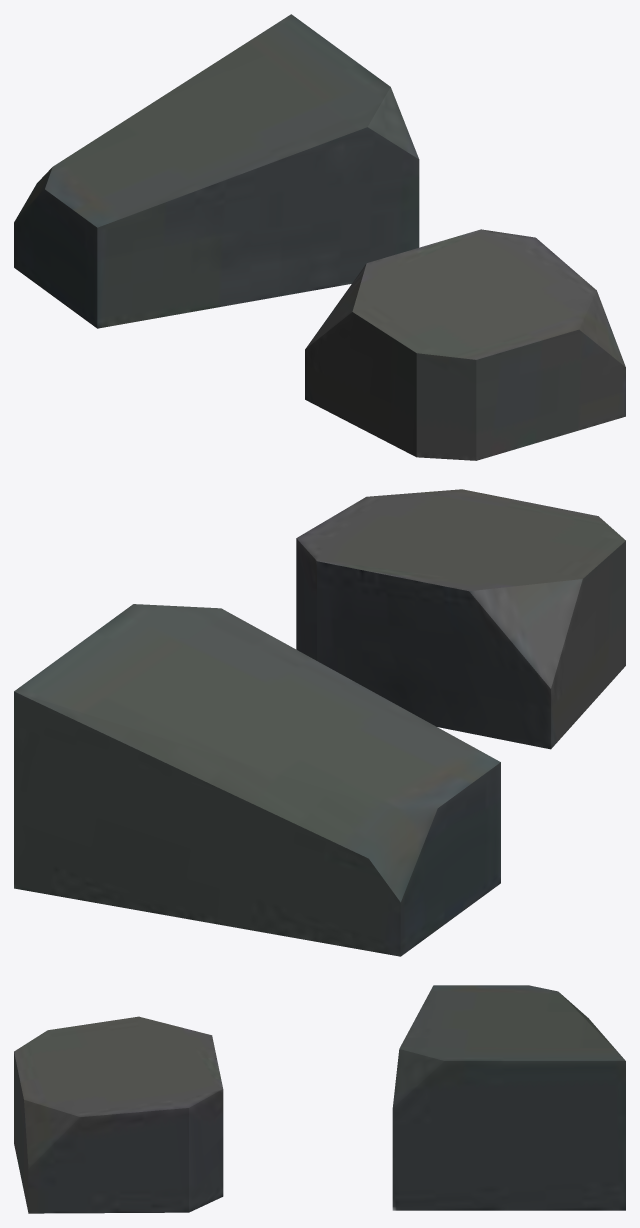
The model's file is OBJ_SmallRock_05.obj.
3 views of the same model, one above another, from view 1: azimuth 30°, elevation 25°; view 2: azimuth 150°, elevation 25°; view 3: azimuth 270°, elevation 25° (orthographic). The views are drawn at different scales.
Visible parts, largest first — view 1: OBJ_SmallRock_05; view 2: OBJ_SmallRock_05; view 3: OBJ_SmallRock_05.
Boxes of the visible parts, bbox=[...] form: OBJ_SmallRock_05: bbox=[14, 14, 625, 460]; OBJ_SmallRock_05: bbox=[14, 489, 625, 956]; OBJ_SmallRock_05: bbox=[14, 985, 625, 1213].
Bounding box in the file's own units: 0.3711 × 0.1899 × 0.7046.
Materials: 1 (1 with a texture image).
